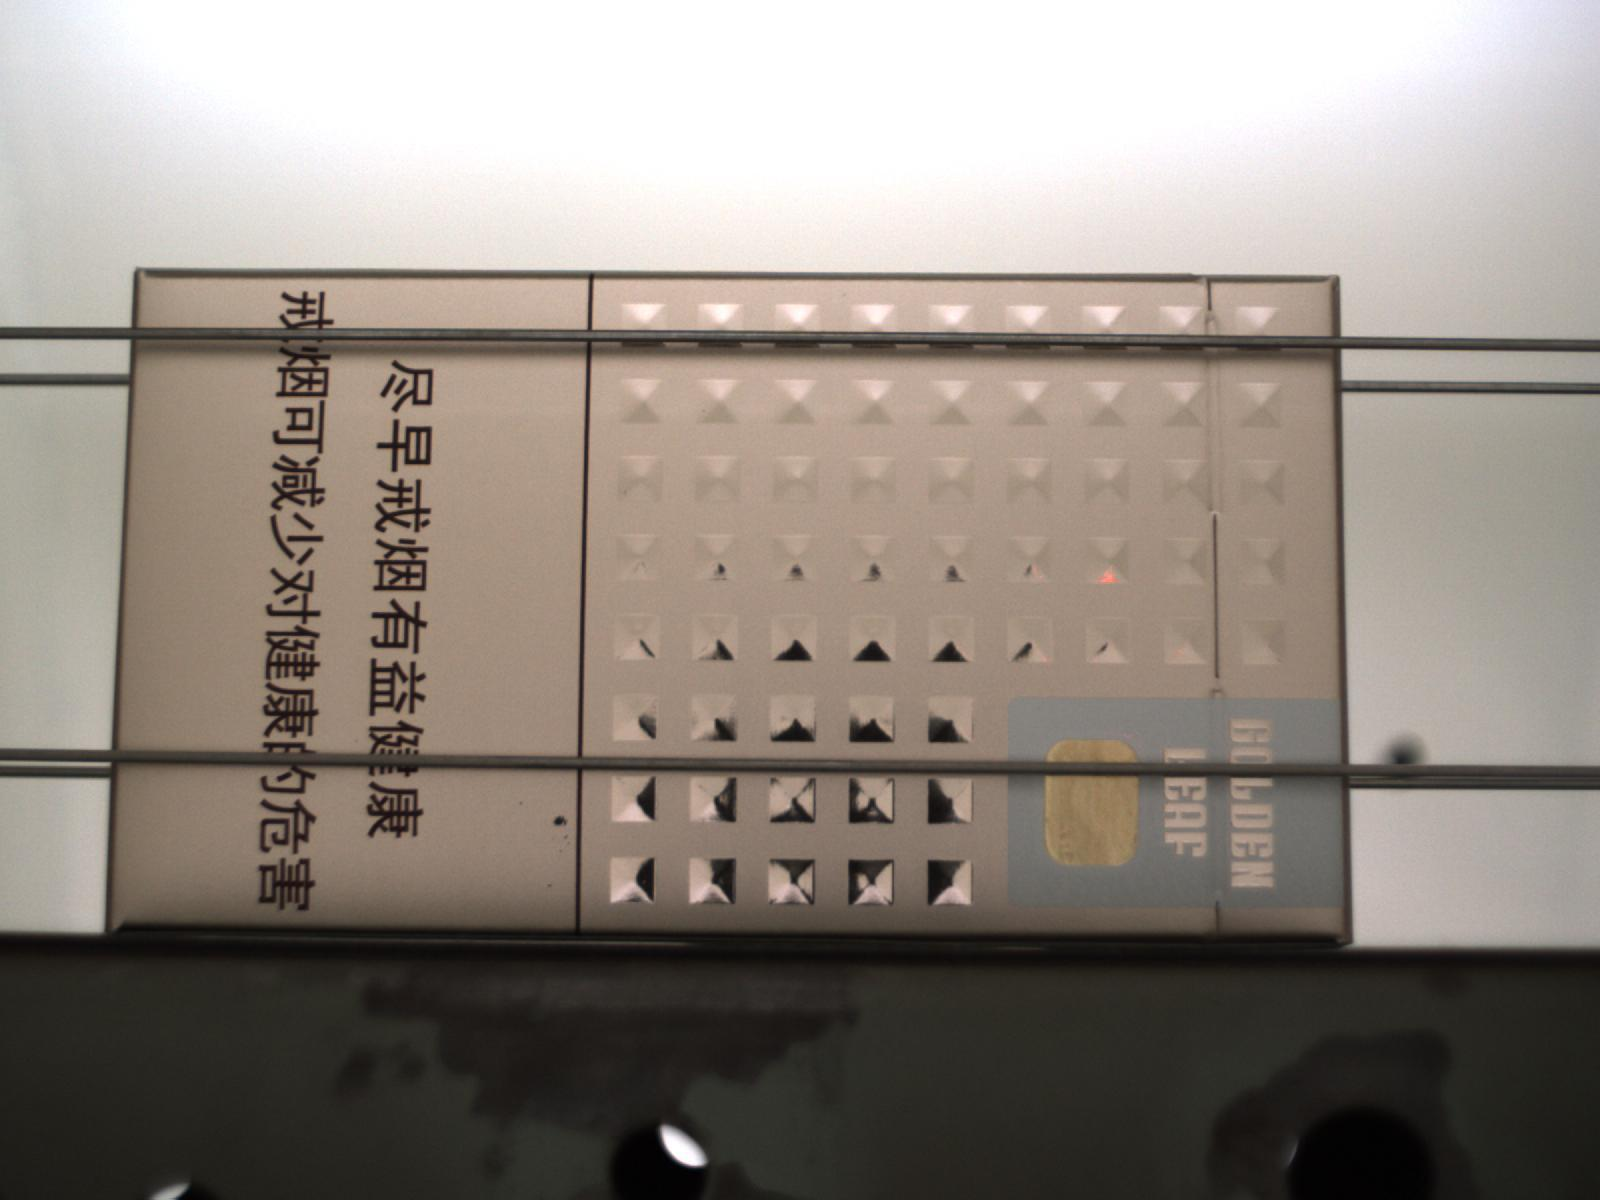dirtyOil: (553, 816, 569, 827)
dirtySpot: (546, 882, 554, 890), (518, 800, 527, 808), (562, 833, 569, 839)
